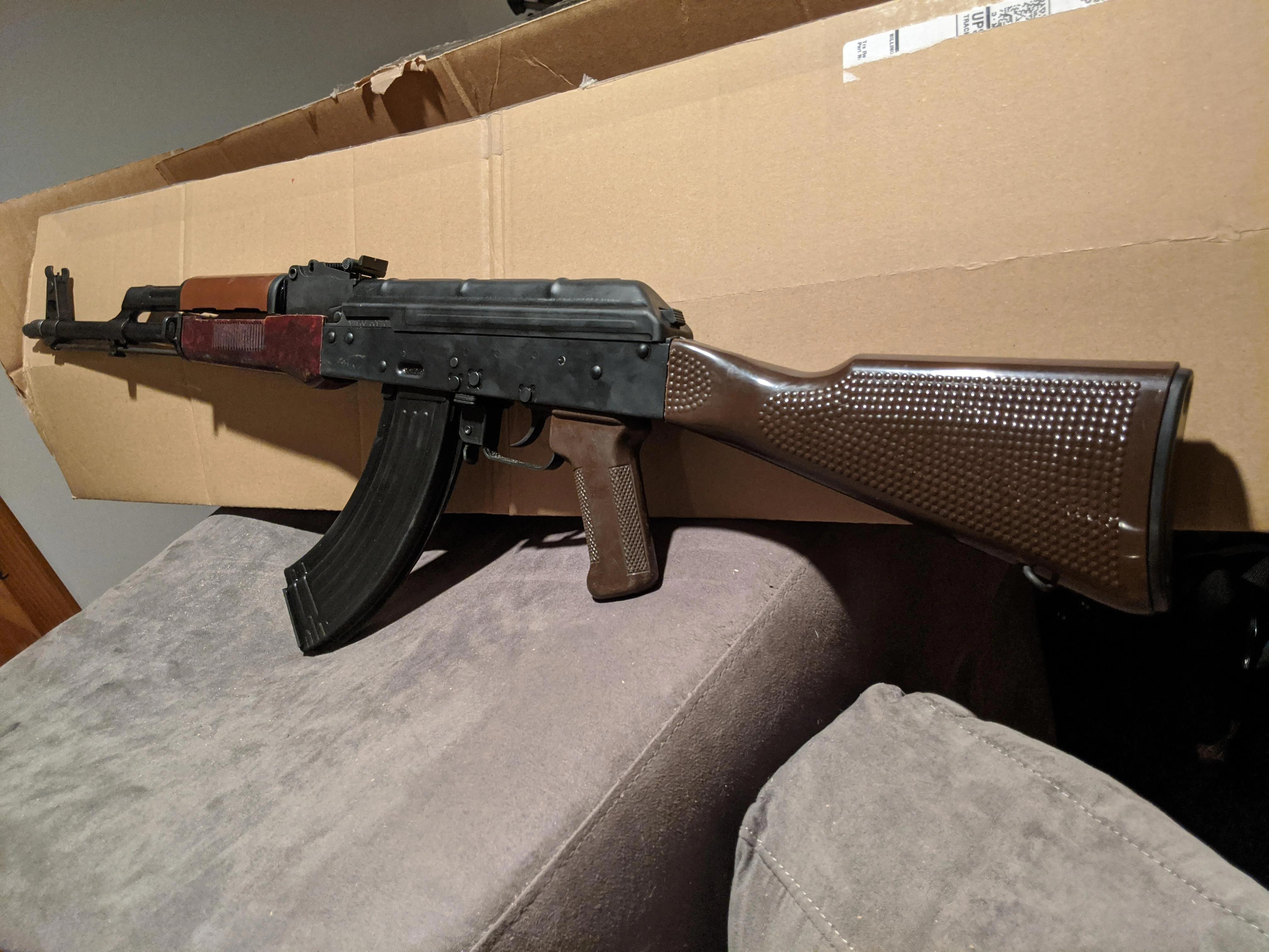larga: (19, 256, 1202, 657)
